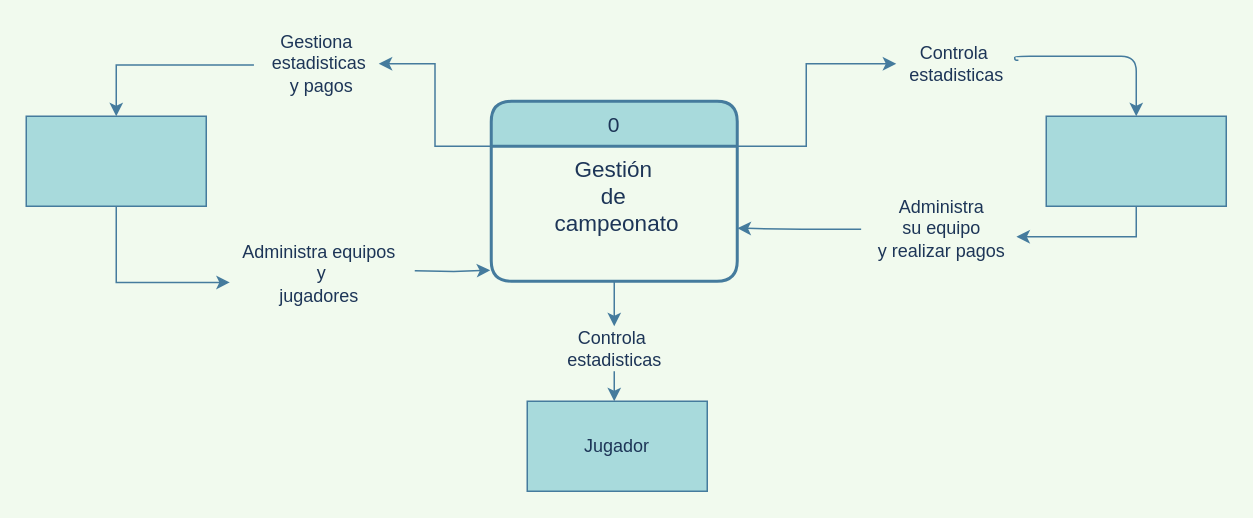
Image size: 1253x518. Some labels were removed from this diagram. The shapes that lost their labels are listed below. From the top down, each one's centre as x and y in pixels, then its label:
At (115,160): "Administrador".
At (1135,160): "Delegado".
